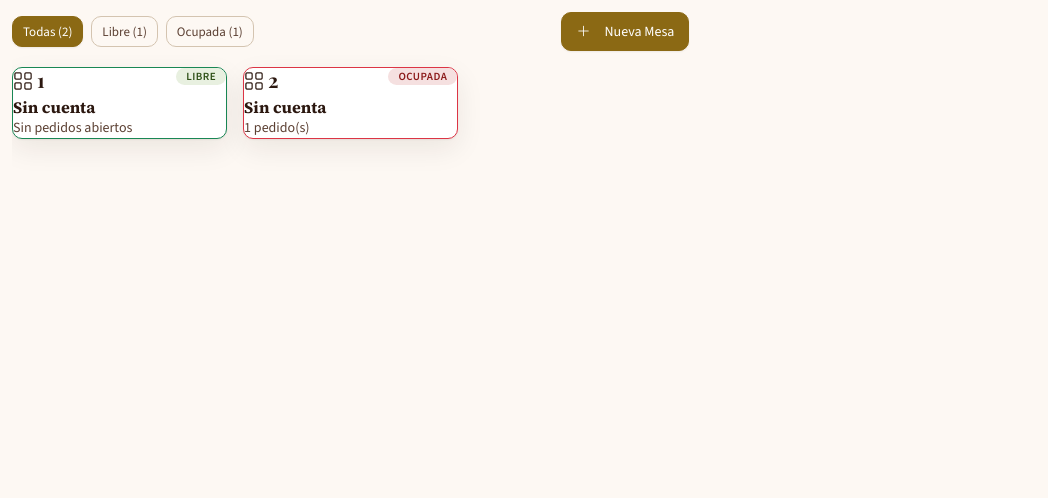
MesasPage › muestra error humano cuando el backend rechaza con 409
Click the heading "1". click: click(29, 80)
box: x1=13 y1=68 x2=45 y2=92
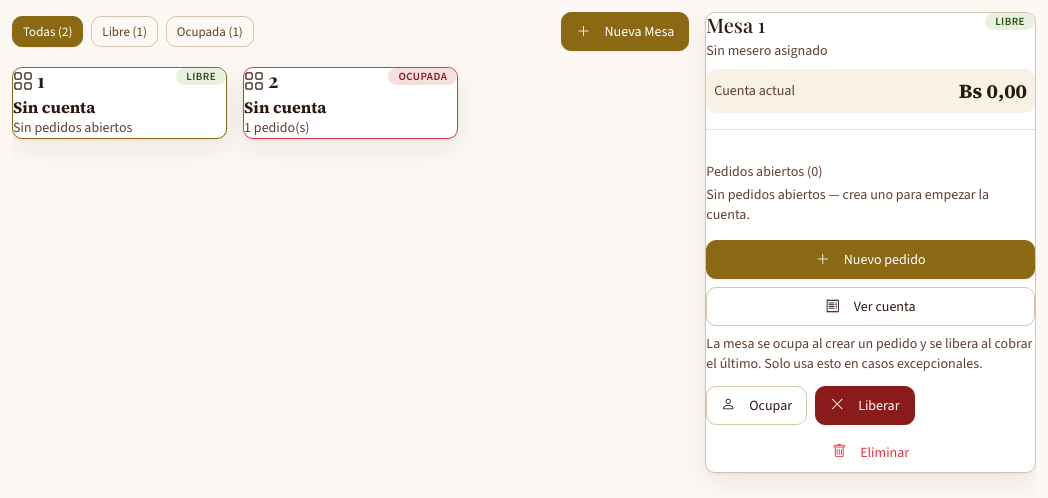
Click the button "Liberar". click: click(865, 405)
box: x1=815 y1=386 x2=914 y2=425
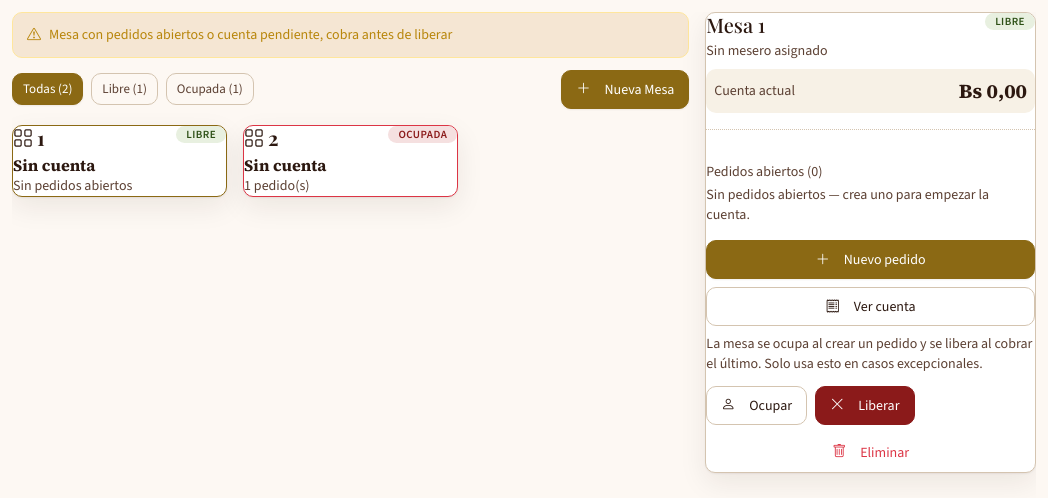
Result: the text "cobra antes de liberar" is shown at x1=49 y1=25 x2=452 y2=44
